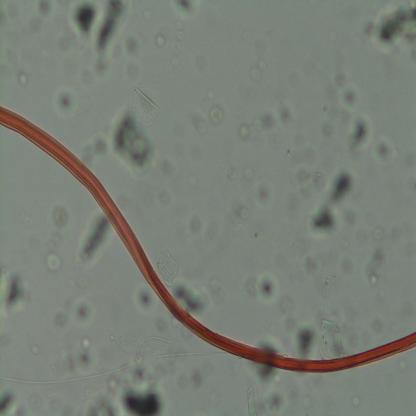Background material: (109, 86, 161, 178), (66, 0, 140, 61), (307, 163, 355, 239), (82, 382, 168, 416), (362, 0, 416, 54), (292, 257, 350, 304), (339, 80, 373, 154), (238, 99, 298, 139), (316, 58, 340, 142), (0, 264, 35, 320), (77, 212, 111, 268), (50, 294, 94, 333), (76, 54, 123, 88), (166, 361, 208, 393), (82, 128, 110, 175), (244, 269, 279, 306), (176, 279, 210, 316), (316, 316, 344, 360), (182, 217, 224, 245), (216, 159, 258, 186), (292, 322, 319, 361), (128, 282, 158, 316), (245, 46, 274, 81), (156, 244, 178, 289), (245, 361, 278, 389), (53, 86, 78, 122), (365, 247, 387, 287), (73, 339, 97, 375), (0, 387, 28, 415), (373, 136, 396, 167), (149, 184, 173, 213), (254, 178, 276, 209), (262, 389, 286, 412), (243, 385, 261, 415), (43, 249, 63, 276), (231, 200, 252, 224), (51, 203, 70, 229), (172, 2, 196, 20), (34, 1, 54, 22), (208, 104, 224, 127), (17, 67, 30, 90), (155, 33, 166, 48)
Glass filter fibre: (0, 350, 156, 385), (154, 347, 225, 361), (135, 335, 172, 361)
Microfibre: (0, 103, 416, 374)
